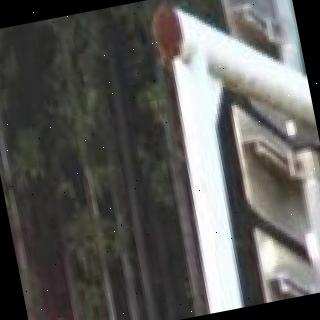fire: (5, 199, 43, 320)
